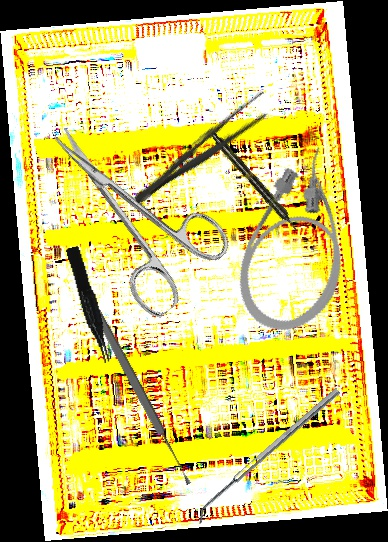Cannula: (222, 135, 380, 347)
Dressing Forceps: (128, 87, 277, 212)
Handpiece: (208, 130, 301, 234)
Iris Scissors: (19, 92, 241, 324)
Spatula Surgical: (190, 387, 346, 525)
Surgical Spoon: (90, 306, 194, 488)
Tissue Forceps: (65, 244, 113, 366)
